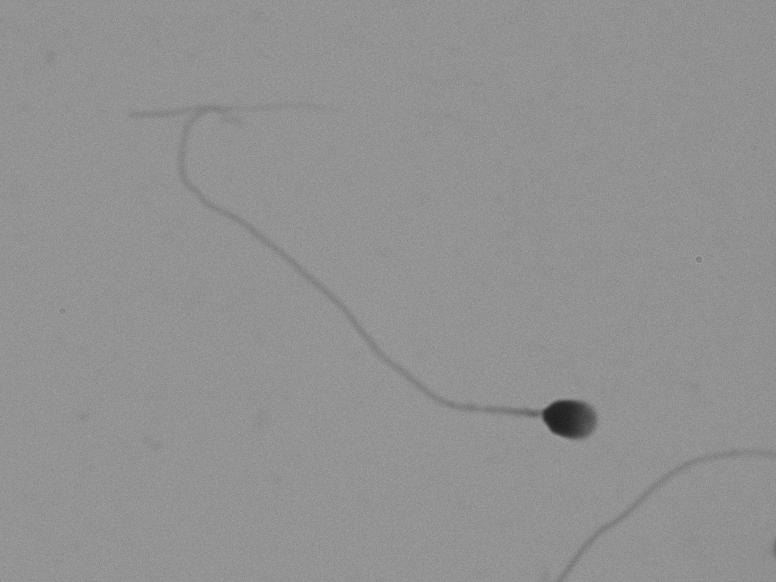Normal: (109, 67, 645, 509)
